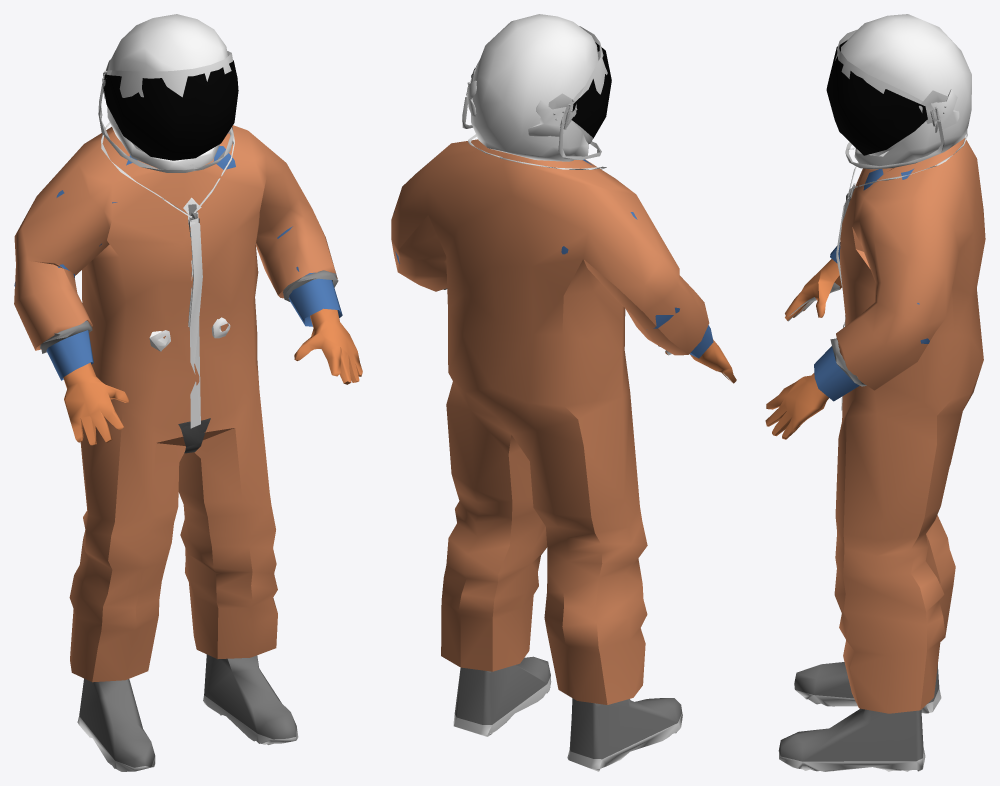
The model's file is aces_lod2.glb.
3 views of the same model, side by side, from view 1: azimuth 30°, elevation 25°; view 2: azimuth 150°, elevation 25°; view 3: azimuth 270°, elevation 25° (orthographic). The views are drawn at different scales.
Visible parts, largest first — view 1: aces_lod2; view 2: aces_lod2; view 3: aces_lod2.
Part boxes in pixels (bbox=[...]): aces_lod2: bbox=[14, 14, 362, 771]; aces_lod2: bbox=[391, 14, 736, 771]; aces_lod2: bbox=[765, 14, 985, 771].
Bounding box in the file's own units: 0.8872 × 2 × 0.5565.
